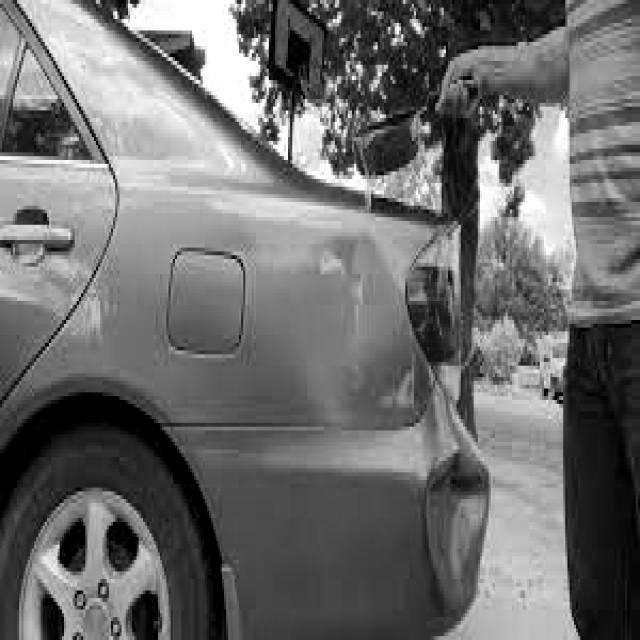doorouter-dent: (0, 152, 118, 484)
quaterpanel-dent: (121, 191, 404, 549)
rear-bumper-dent: (395, 230, 497, 637)
